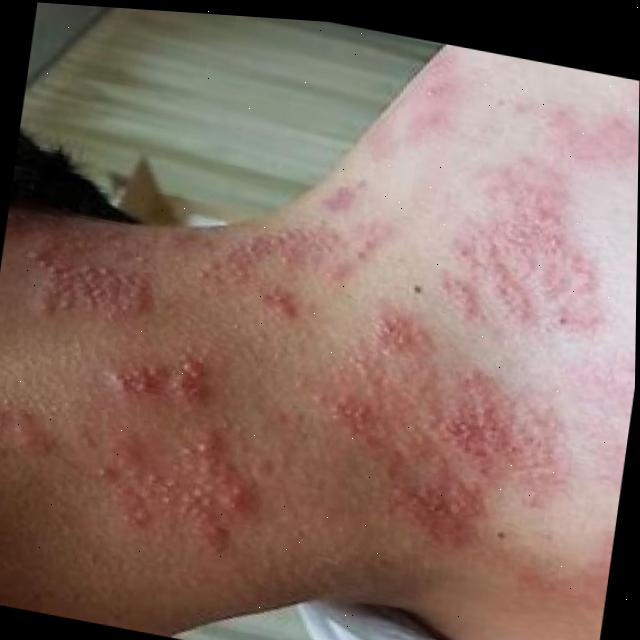Shingles: (0, 0, 637, 622)
